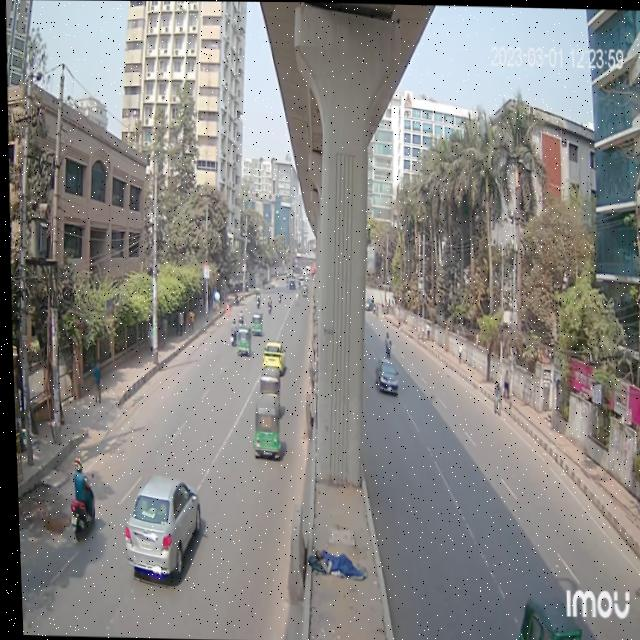cng: (248, 392, 280, 462), (232, 322, 250, 365), (248, 310, 261, 338)
